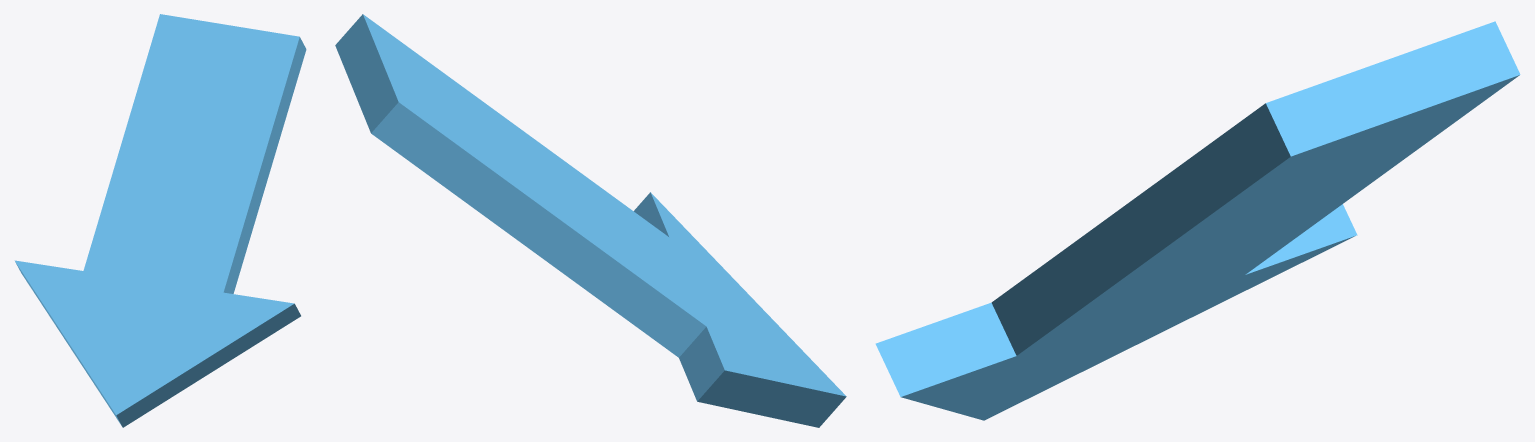
The model's file is ArrowSouthWest.gltf.
3 renders of one model, left to right at view 1: azimuth 30°, elevation 25°; view 2: azimuth 150°, elevation 25°; view 3: azimuth 270°, elevation 25°, orthographic. The views are drawn at different scales.
Visible parts, largest first — view 1: Arrow; view 2: Arrow; view 3: Arrow.
Boxes of the visible parts, bbox=[...] form: Arrow: bbox=[14, 14, 306, 427]; Arrow: bbox=[335, 14, 846, 427]; Arrow: bbox=[875, 21, 1520, 420].
Size of the model in its own units: 5.45 by 5.18 by 5.41.
